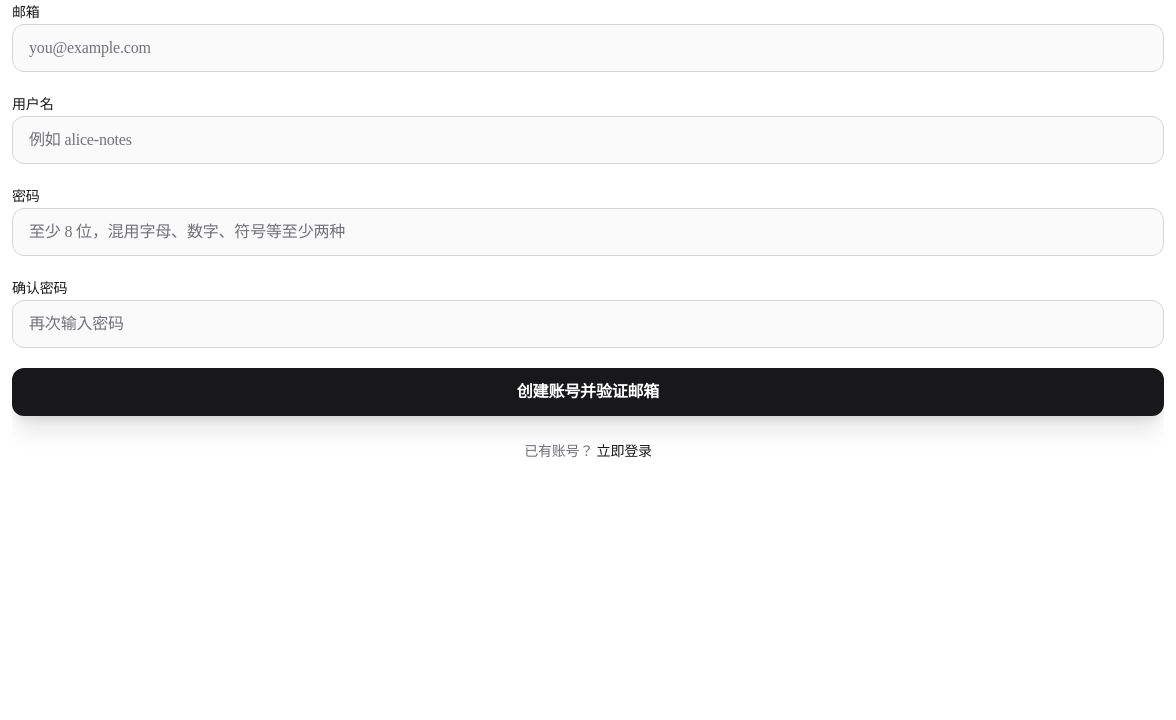
Test: explains when Better Auth rejects a breached password
Type "alice-notes" into the field labelled "用户名" at (588, 140), box x1=12 y1=116 x2=1164 y2=164
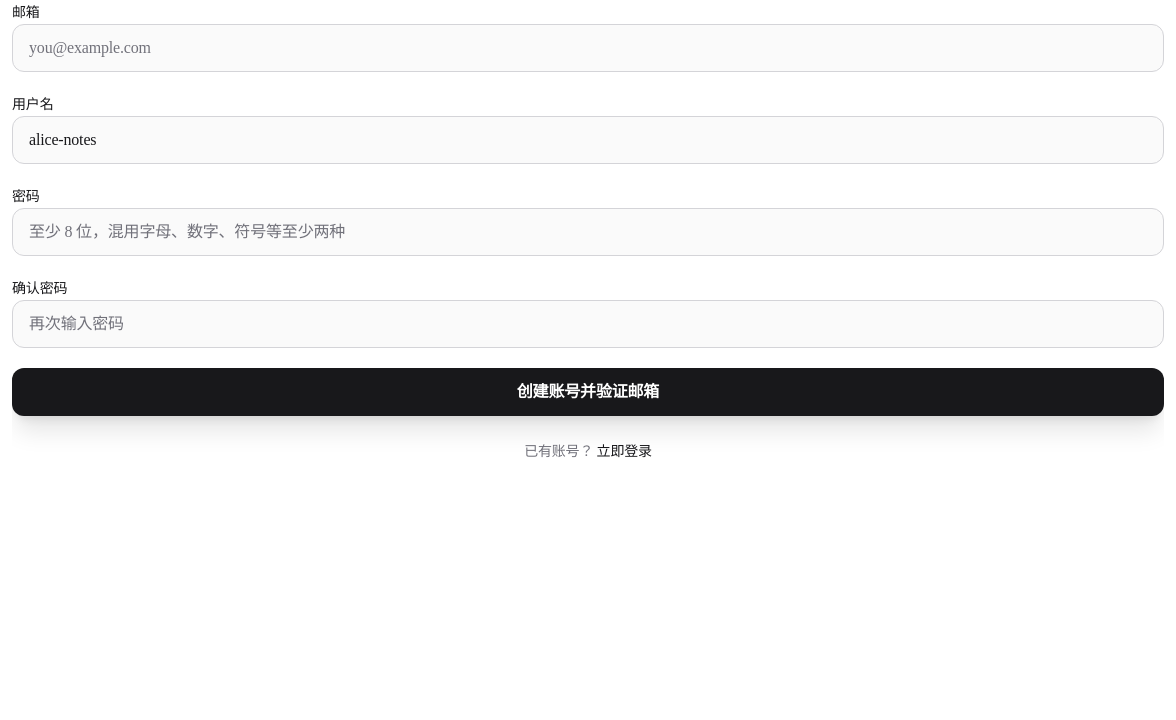
Type "alice@example.com" into the field labelled "邮箱" at (588, 48), box x1=12 y1=24 x2=1164 y2=72
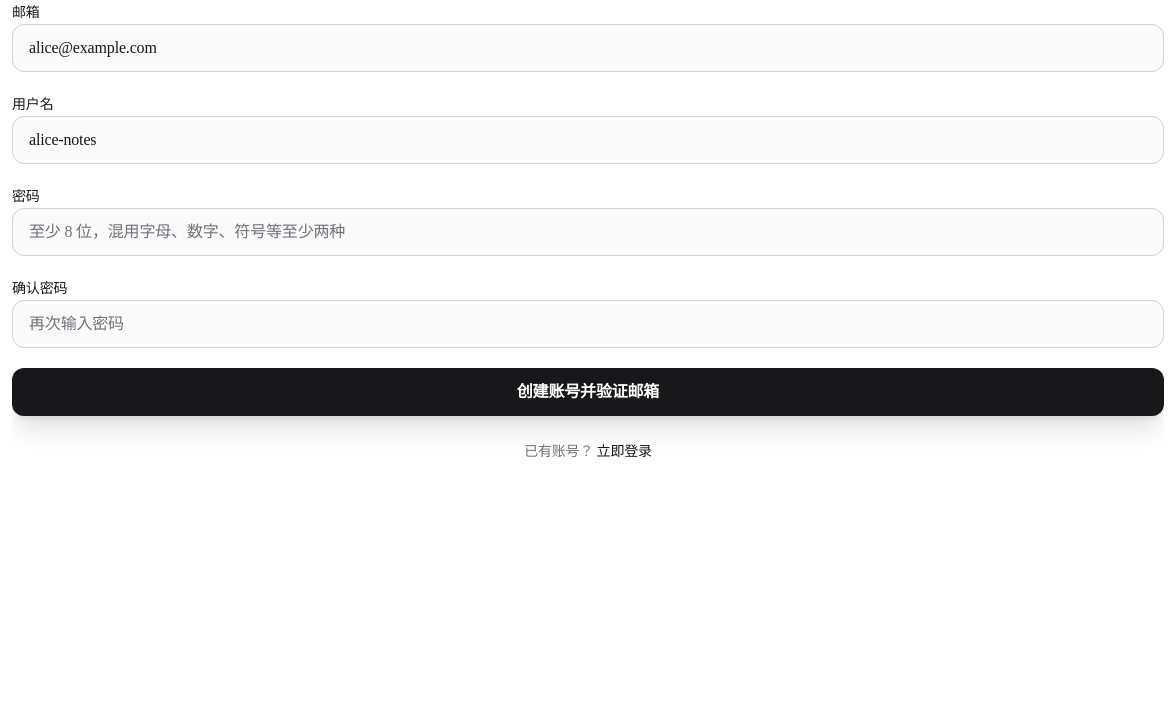
Type "Spectra-password-2026" into the password field labelled "密码" at (588, 232), box x1=12 y1=208 x2=1164 y2=256
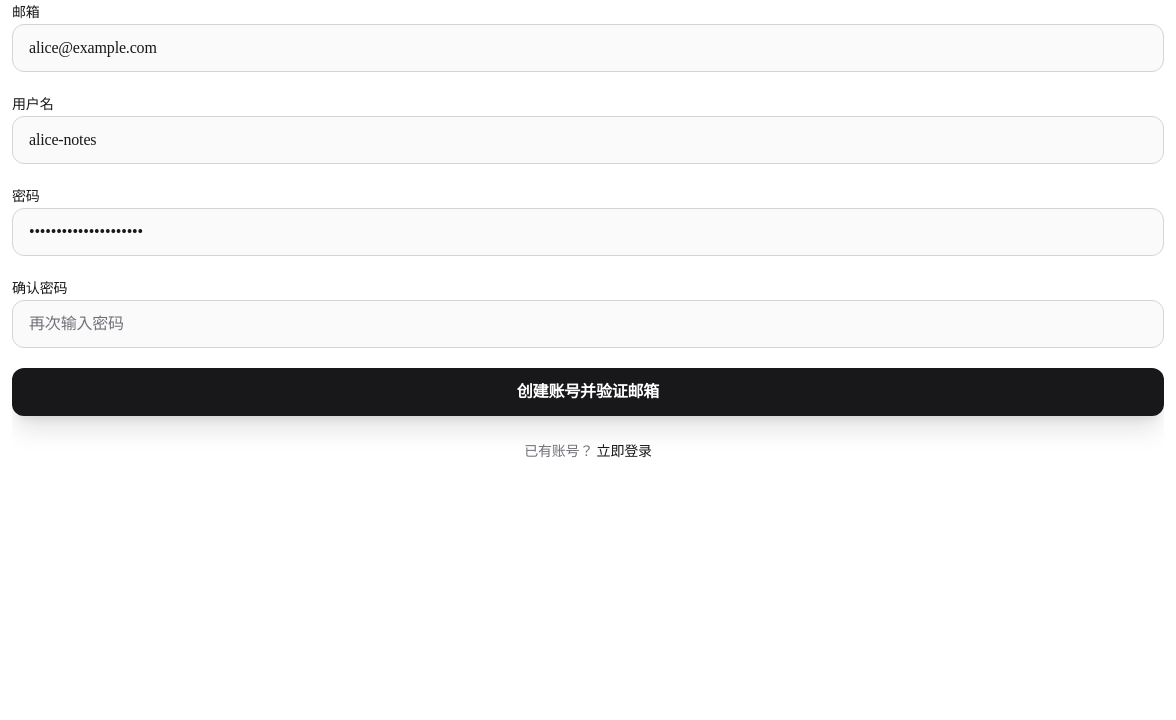
Type "Spectra-password-2026" into the password field labelled "确认密码" at (588, 324), box x1=12 y1=300 x2=1164 y2=348
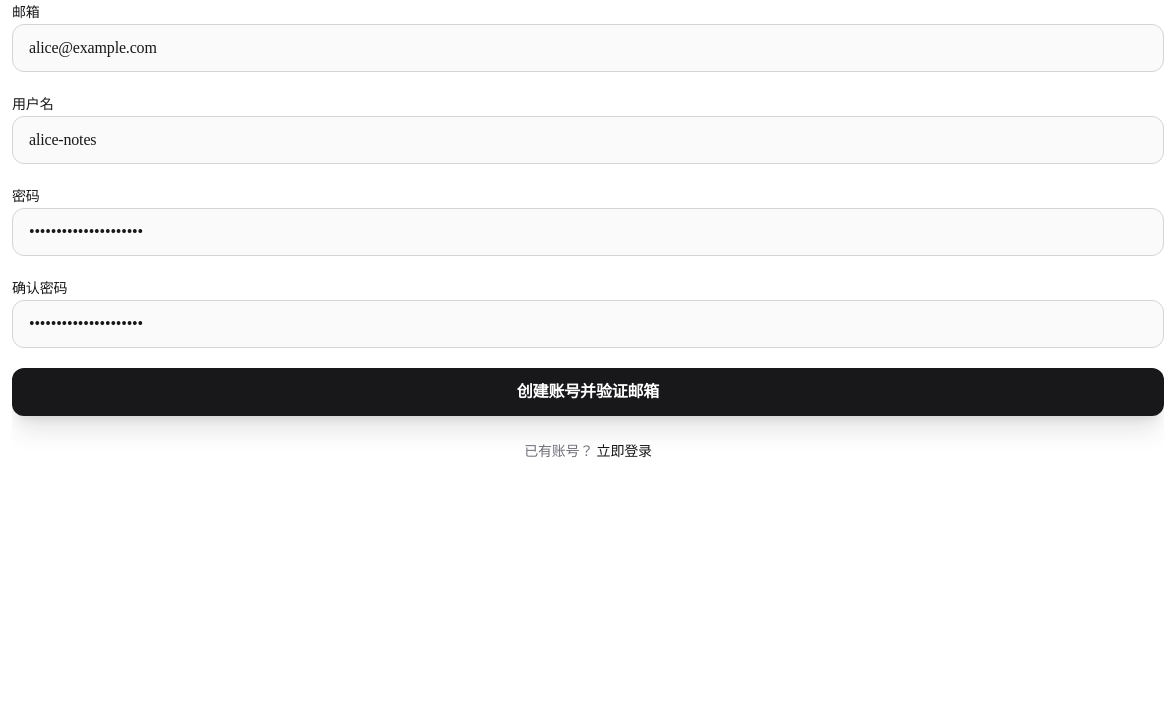
Click the button "创建账号并验证邮箱" at (588, 392), box x1=12 y1=368 x2=1164 y2=416
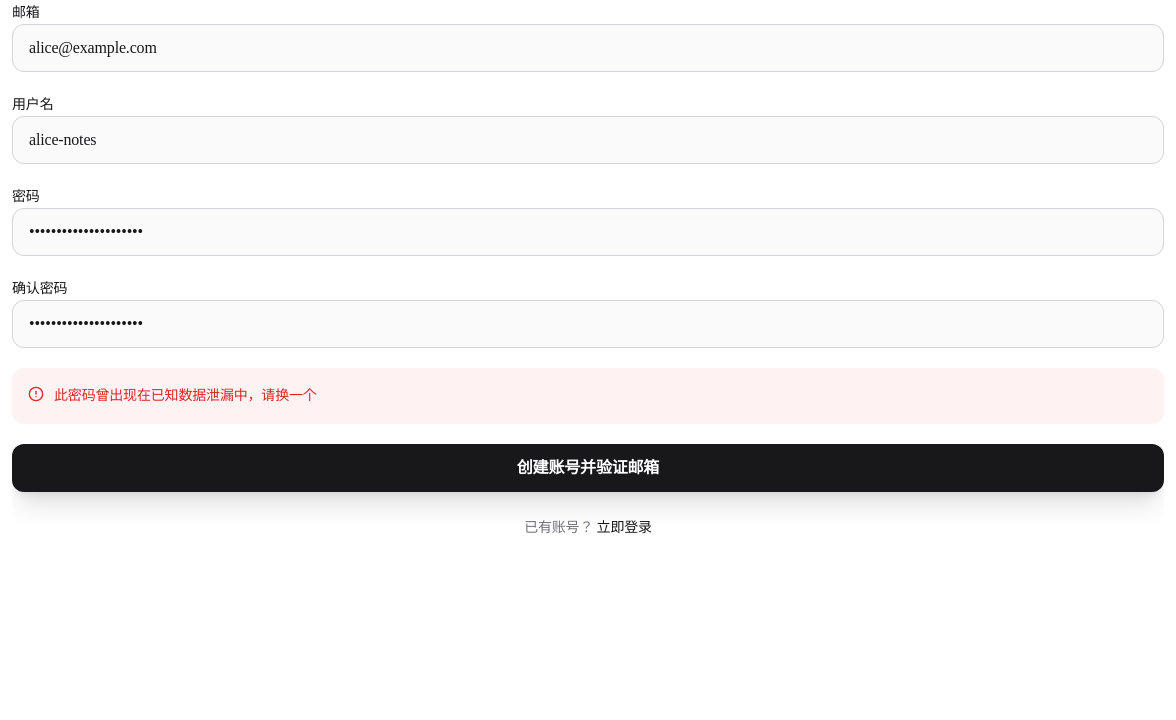
Now the message reads "此密码曾出现在已知数据泄漏中，请换一个", box x1=54 y1=388 x2=317 y2=403
